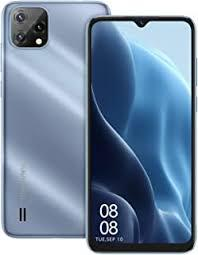Smartphone: (1, 2, 106, 231), (85, 18, 186, 250)
